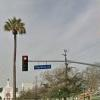Tree: (3, 12, 40, 48)
